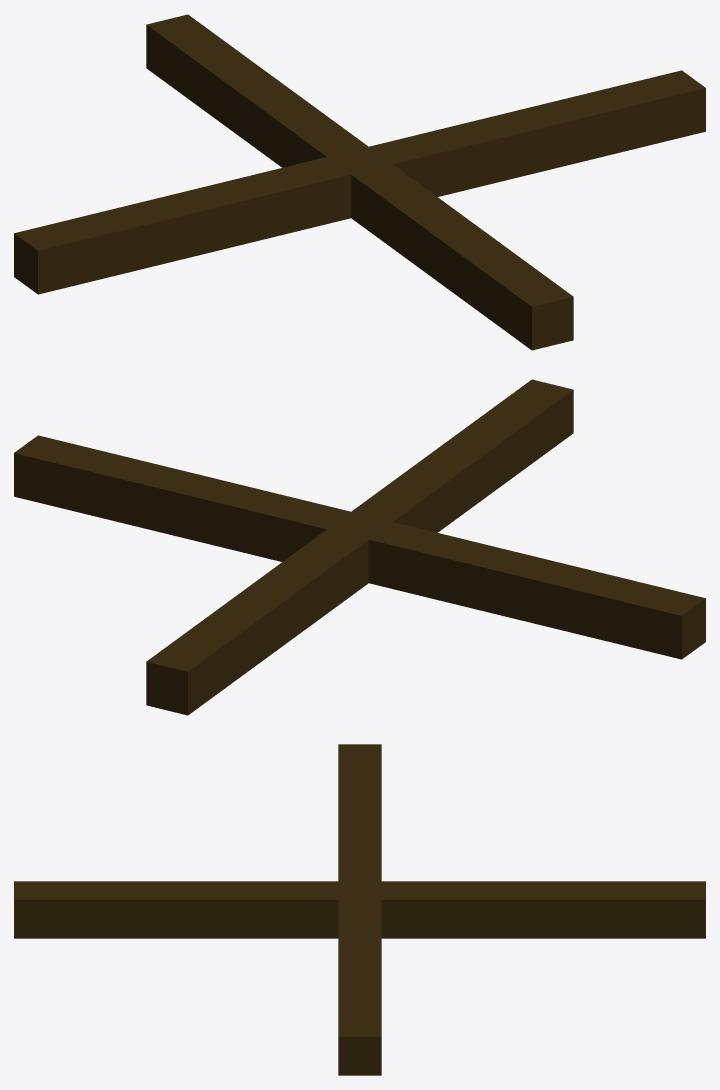
Rendered from greda sredina mid.FBX.
The picture shows the model from 3 angles, top to bottom: view 1: azimuth 30°, elevation 25°; view 2: azimuth 150°, elevation 25°; view 3: azimuth 270°, elevation 25°; orthographic projection. The views are drawn at different scales.
Visible parts, largest first — view 1: temeljna_Srednja_Greda024, temeljna_Srednja_Greda025, temeljna_Srednja_Greda027, temeljna_Srednja_Greda026; view 2: temeljna_Srednja_Greda024, temeljna_Srednja_Greda025, temeljna_Srednja_Greda026, temeljna_Srednja_Greda027; view 3: temeljna_Srednja_Greda027, temeljna_Srednja_Greda026, temeljna_Srednja_Greda025, temeljna_Srednja_Greda024.
Boxes of the visible parts, left/top/right/bottom form: temeljna_Srednja_Greda024: left=14, top=141, right=413, bottom=294; temeljna_Srednja_Greda025: left=390, top=70, right=705, bottom=196; temeljna_Srednja_Greda027: left=315, top=138, right=573, bottom=350; temeljna_Srednja_Greda026: left=146, top=14, right=363, bottom=226; temeljna_Srednja_Greda024: left=306, top=506, right=705, bottom=659; temeljna_Srednja_Greda025: left=14, top=435, right=389, bottom=588; temeljna_Srednja_Greda026: left=146, top=513, right=404, bottom=715; temeljna_Srednja_Greda027: left=315, top=379, right=573, bottom=548; temeljna_Srednja_Greda027: left=14, top=881, right=403, bottom=938; temeljna_Srednja_Greda026: left=403, top=881, right=705, bottom=938; temeljna_Srednja_Greda025: left=338, top=908, right=381, bottom=1075; temeljna_Srednja_Greda024: left=338, top=744, right=381, bottom=908.
Bounding box in the file's own units: 320 × 20 × 320.
